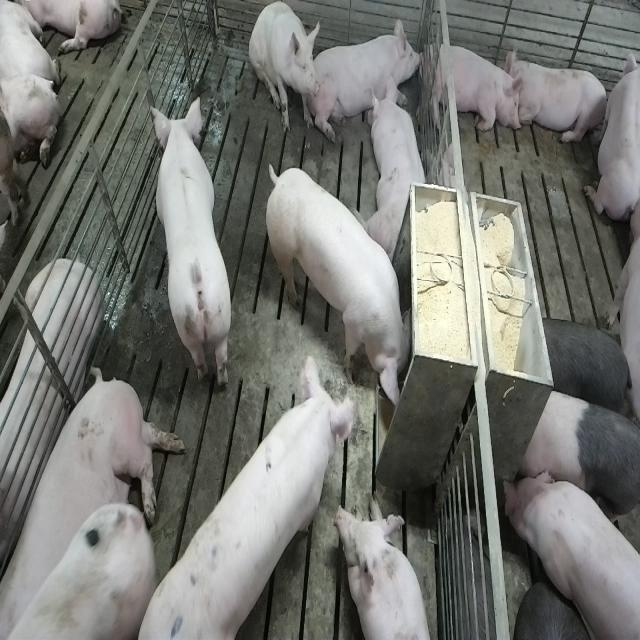Feeding: (270, 163, 420, 413)
Lateral_lying: (6, 364, 184, 637), (0, 259, 102, 578)
Sitting: (249, 2, 319, 136)
Standing: (138, 345, 361, 636), (151, 102, 233, 398), (502, 465, 638, 640), (4, 501, 164, 638), (517, 384, 638, 550), (535, 316, 636, 426)
Sternal_lying: (317, 12, 430, 142), (337, 501, 437, 640), (368, 79, 430, 259), (424, 37, 522, 138), (583, 41, 637, 224), (509, 52, 609, 150)
